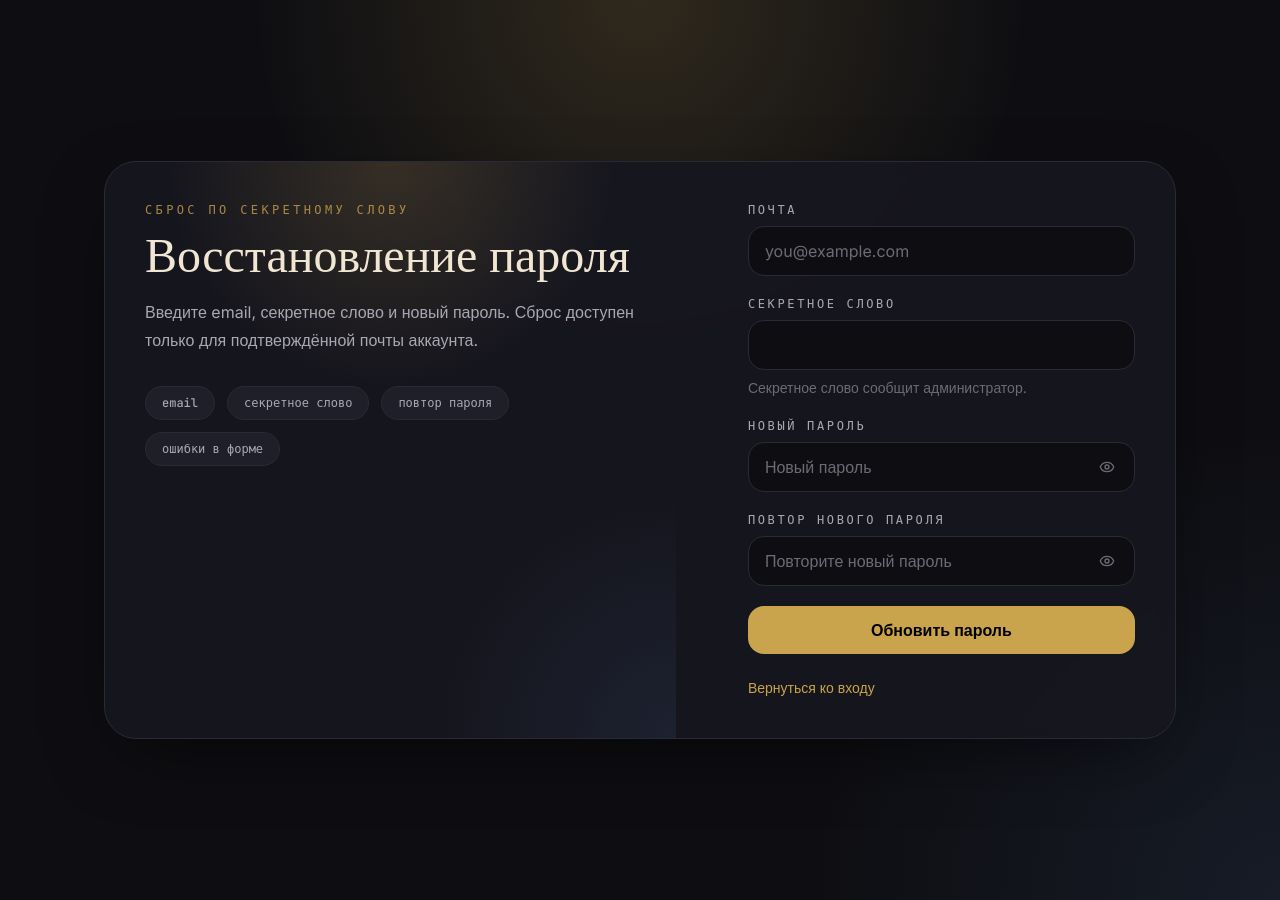
Test: password reset page › validates password repeat before submit
Type "ironfist@example.com" into the field labelled "Почта" at (941, 251), box x1=748 y1=226 x2=1135 y2=276
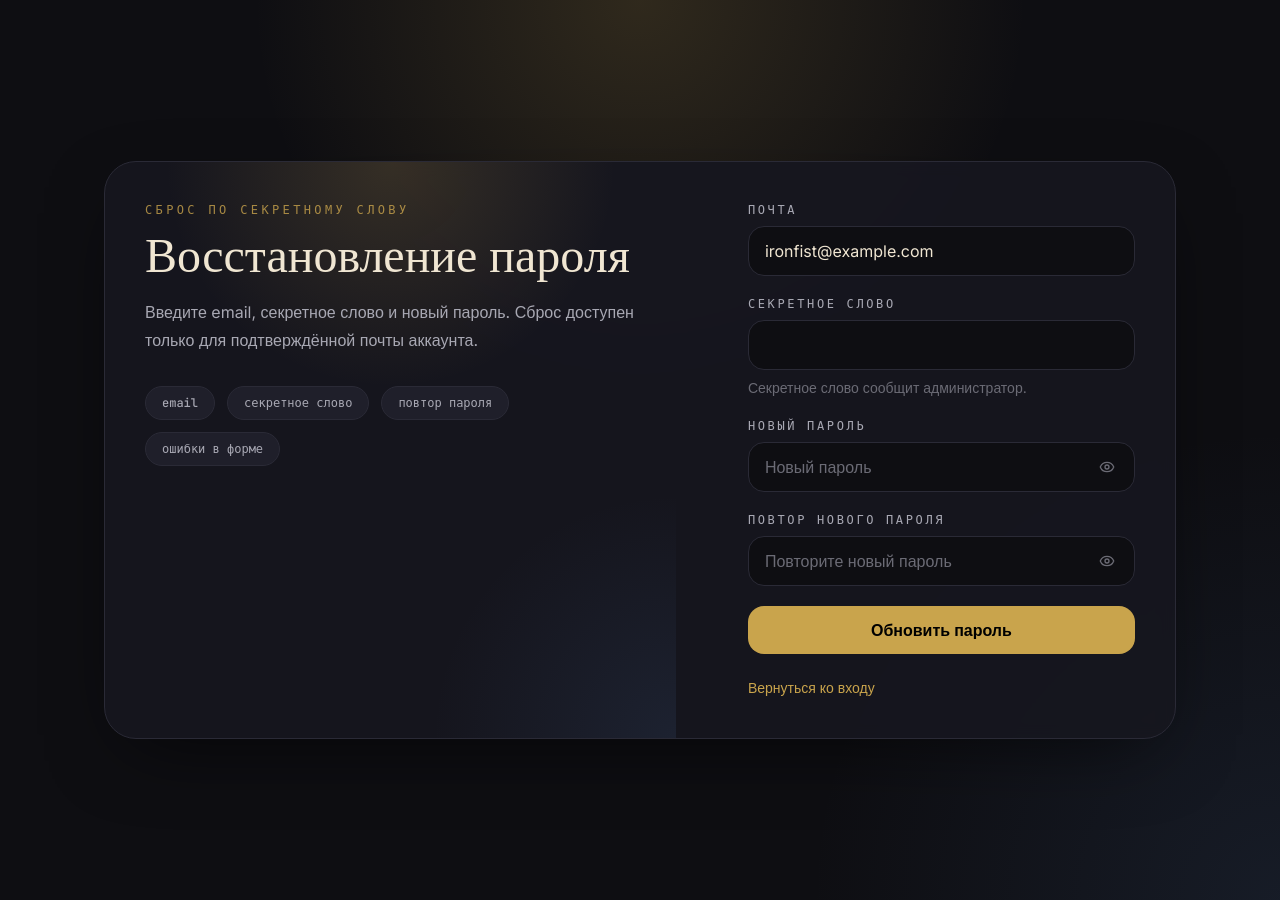
Type "lovecraft" into the field labelled "Секретное слово" at (941, 345), box x1=748 y1=320 x2=1135 y2=370
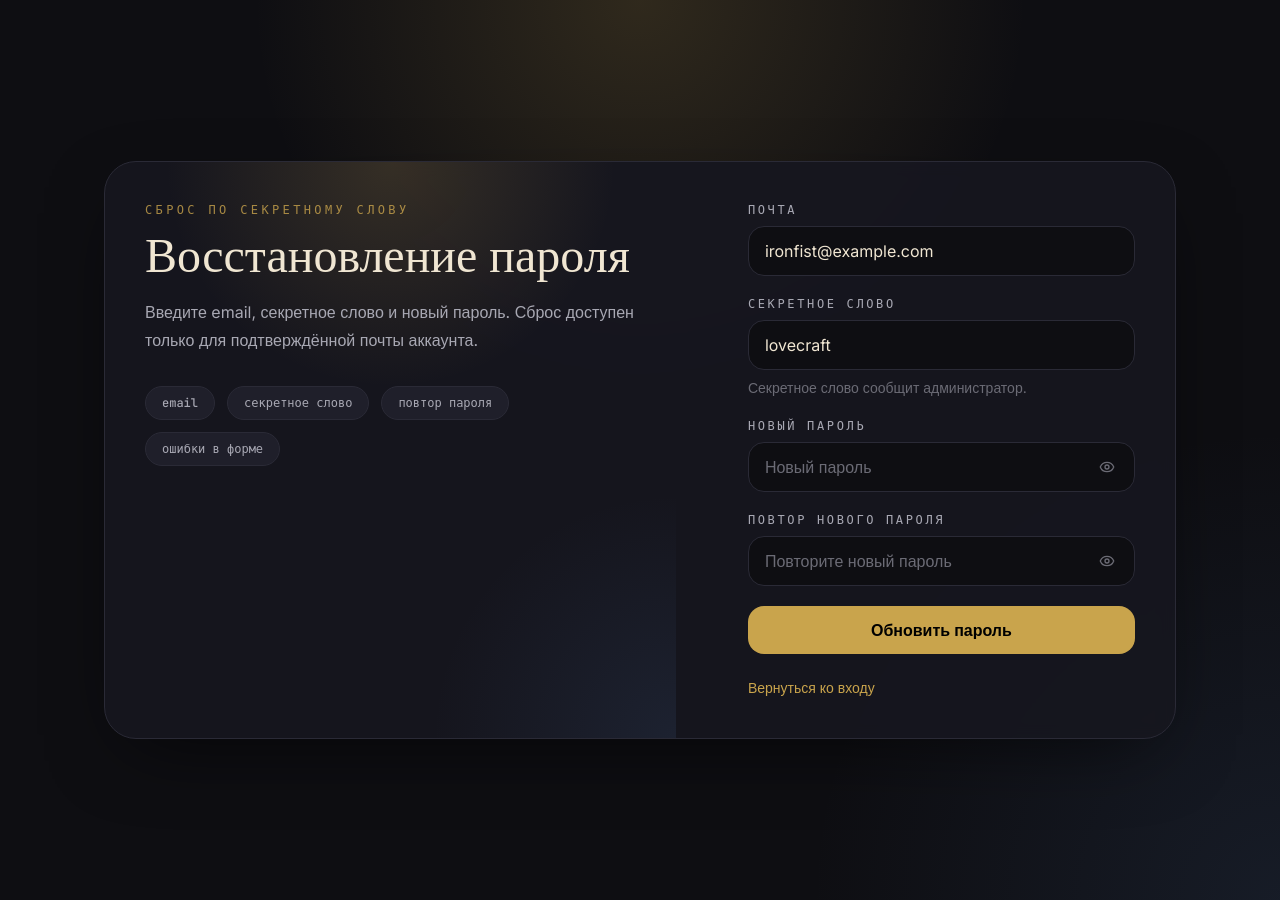
Type "NewStrongPassword123!" into the password field labelled "Новый пароль" at (941, 467), box x1=748 y1=442 x2=1135 y2=492
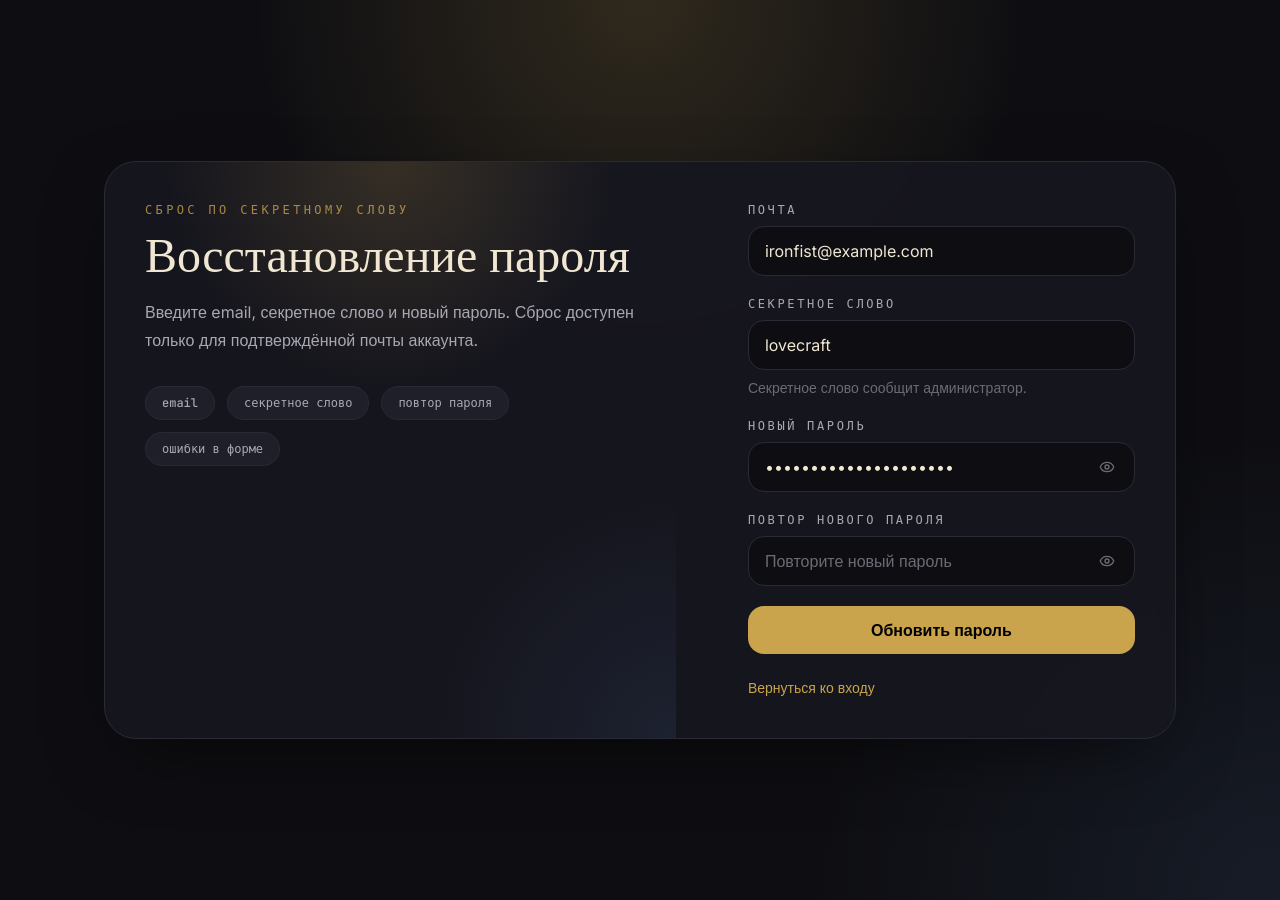
Type "WrongPassword123!" into the password field labelled "Повтор нового пароля" at (941, 561), box x1=748 y1=536 x2=1135 y2=586
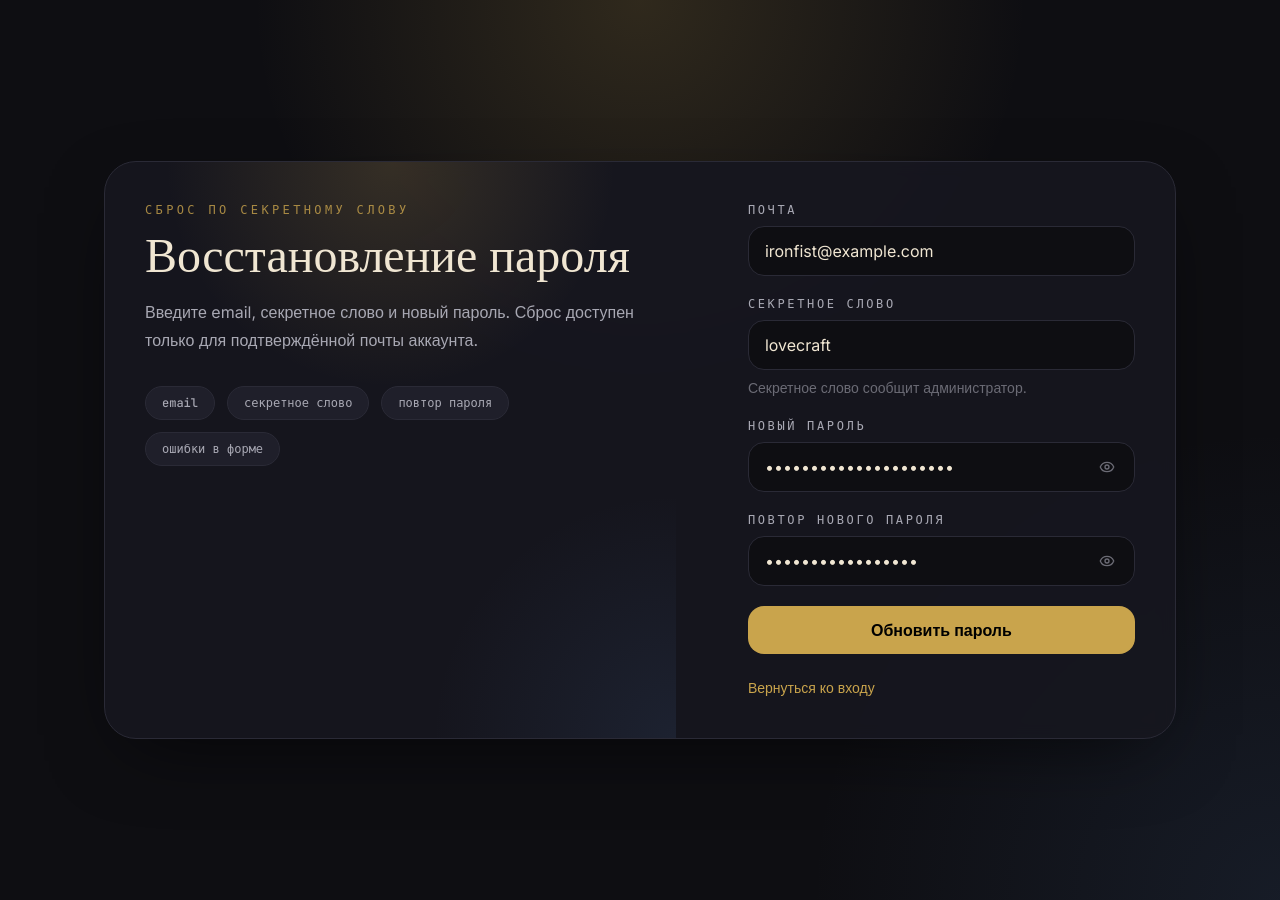
Click the button "Обновить пароль" at (941, 630), box x1=748 y1=606 x2=1135 y2=654
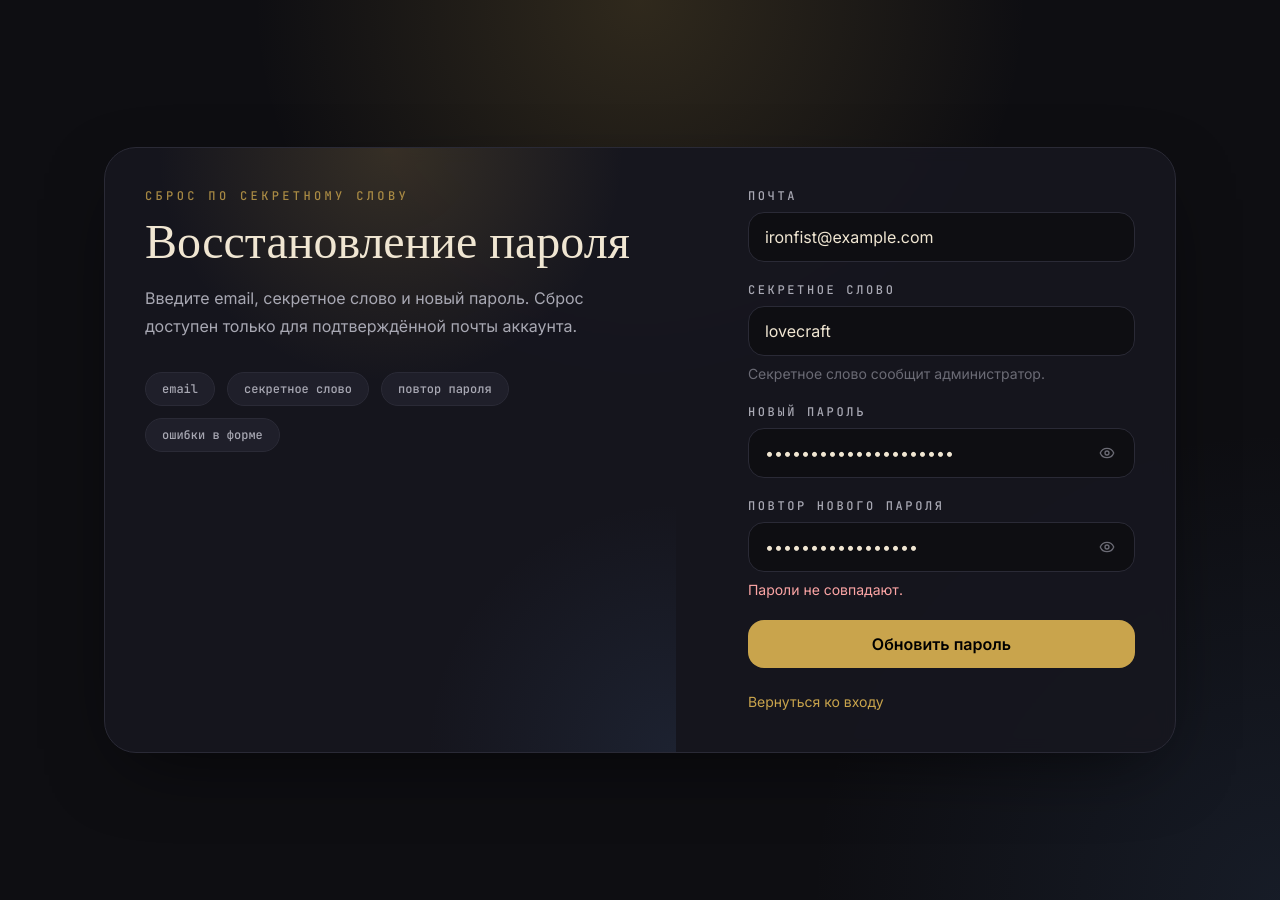
Now the text "Пароли не совпадают." is shown, box x1=748 y1=581 x2=903 y2=598
